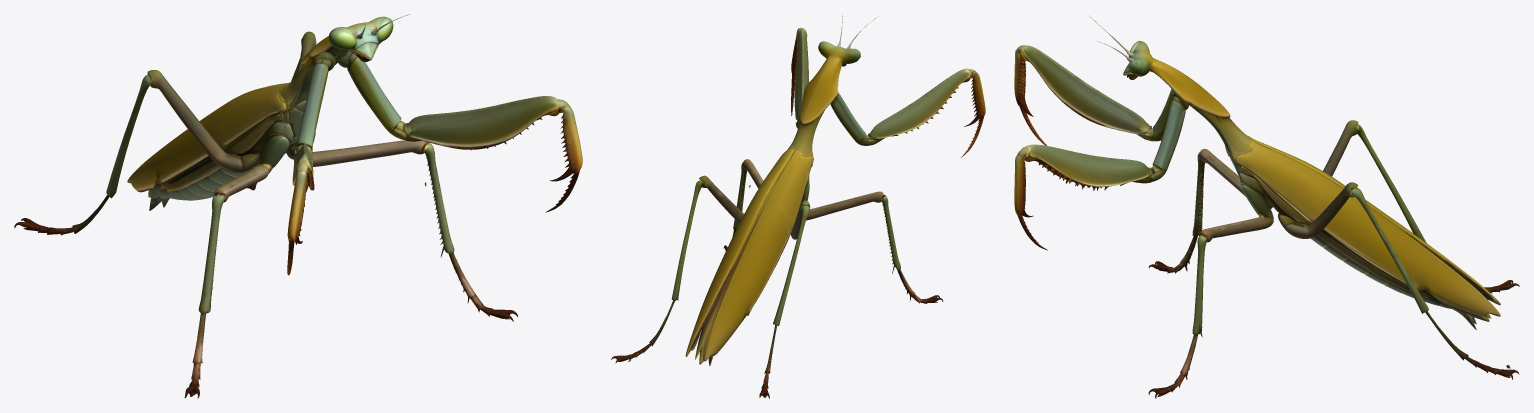
The model's file is scythemoth.glb.
The picture shows the model from 3 angles, left to right: view 1: azimuth 30°, elevation 25°; view 2: azimuth 150°, elevation 25°; view 3: azimuth 270°, elevation 25°; orthographic projection. The views are drawn at different scales.
Parts seen in each view (by area): view 1: node_0; view 2: node_0; view 3: node_0.
Part boxes in pixels (x1=…): node_0: x1=14, y1=14, x2=582, y2=398; node_0: x1=611, y1=14, x2=985, y2=398; node_0: x1=1014, y1=16, x2=1519, y2=398.
Bounding box in the file's own units: 0.5906 × 0.6322 × 0.9424.
1 material, 1 textured.
